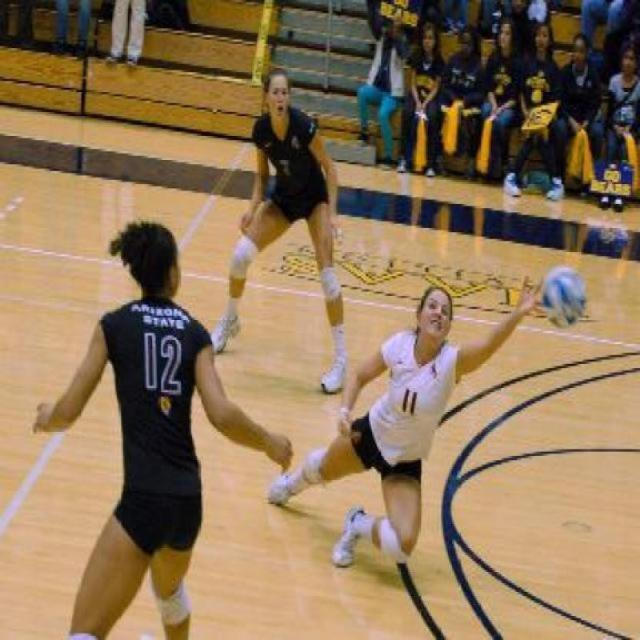volleyball: (540, 265, 591, 333)
